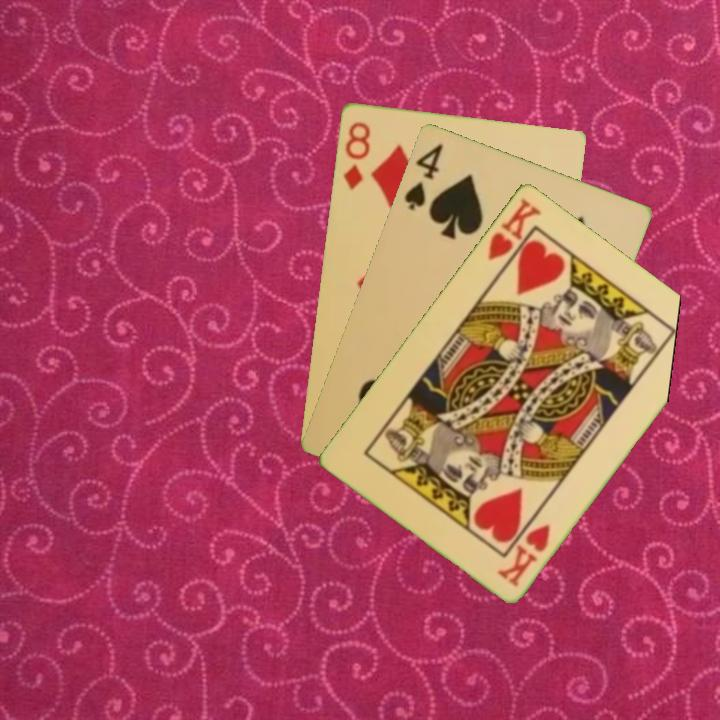4s: (400, 139, 446, 213)
8d: (339, 118, 373, 192)
Kh: (483, 194, 545, 276), (493, 519, 553, 589)
